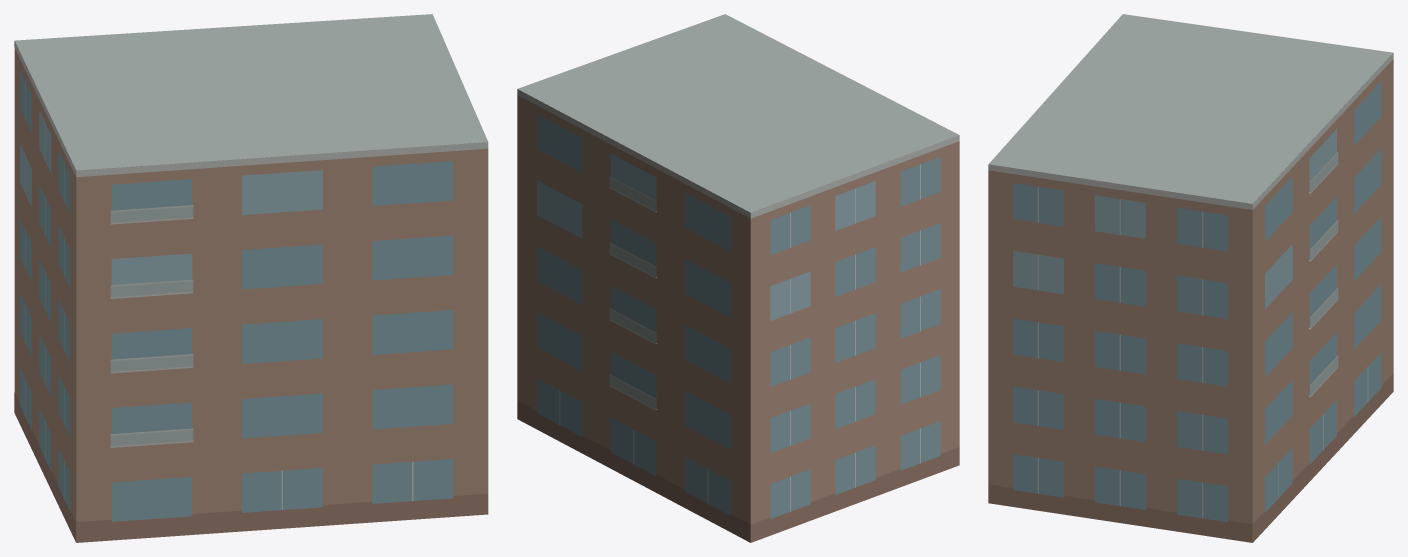
The model's file is survey-upis-33033927.glb.
3 renders of one model, left to right at view 1: azimuth 30°, elevation 25°; view 2: azimuth 150°, elevation 25°; view 3: azimuth 270°, elevation 25°, orthographic. The views are drawn at different scales.
Visible parts, largest first — view 1: survey-upis-33033927.tmp; view 2: survey-upis-33033927.tmp; view 3: survey-upis-33033927.tmp.
Boxes of the visible parts, left/top/right/bottom form: survey-upis-33033927.tmp: left=14, top=14, right=488, bottom=542; survey-upis-33033927.tmp: left=517, top=14, right=959, bottom=542; survey-upis-33033927.tmp: left=988, top=14, right=1393, bottom=542.
Bounding box in the file's own units: 16.48 × 13.7 × 14.85.
